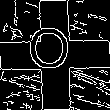O_S: (33, 29, 77, 81)
